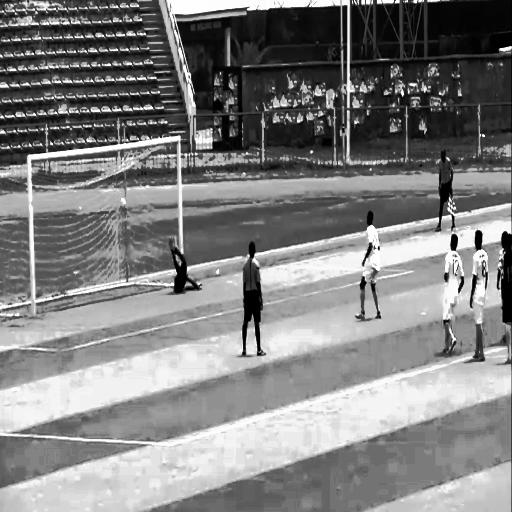ball: (114, 196, 129, 216)
keeper2: (162, 231, 206, 295)
referee: (234, 235, 275, 370), (429, 141, 462, 239)
team1: (344, 202, 389, 333), (465, 220, 497, 375), (438, 228, 468, 358)
team2: (499, 232, 511, 372)
